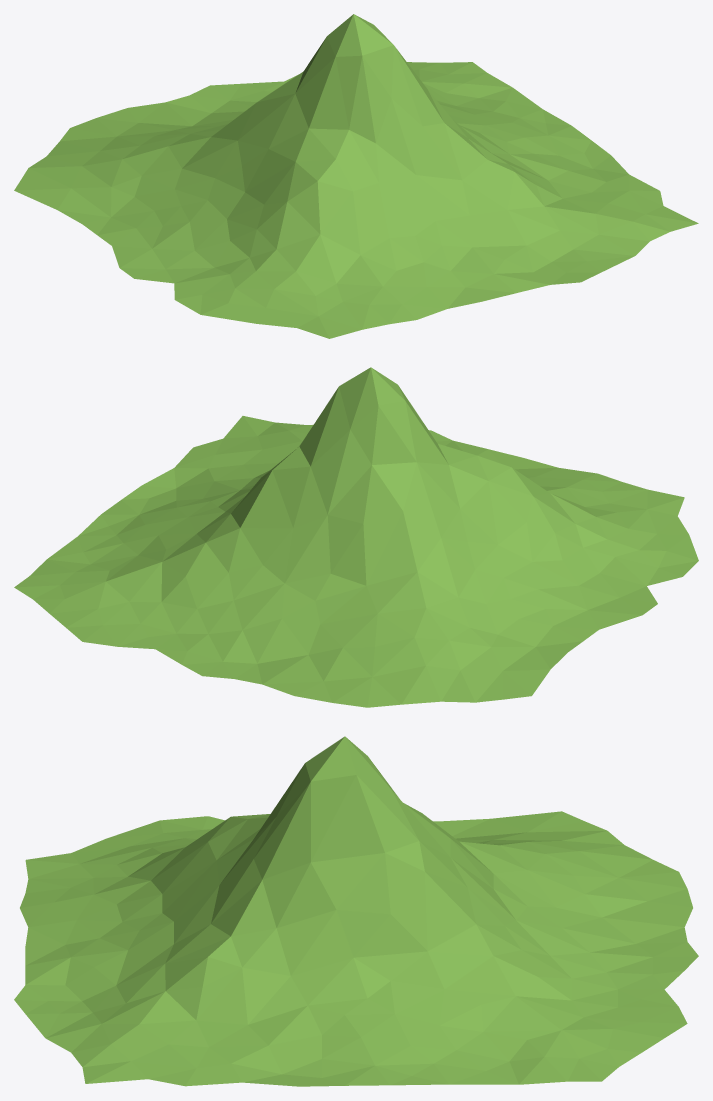
Rendered from MT_Mountain_M_a_19_LOD.fbx.
The picture shows the model from 3 angles, top to bottom: view 1: azimuth 30°, elevation 25°; view 2: azimuth 150°, elevation 25°; view 3: azimuth 270°, elevation 25°; orthographic projection. The views are drawn at different scales.
Visible parts, largest first — view 1: MT_Mountain_M_a_19_LOD0; view 2: MT_Mountain_M_a_19_LOD0; view 3: MT_Mountain_M_a_19_LOD0.
Part boxes in pixels (left/top/right/bottom): MT_Mountain_M_a_19_LOD0: left=14, top=14, right=698, bottom=338; MT_Mountain_M_a_19_LOD0: left=14, top=367, right=698, bottom=707; MT_Mountain_M_a_19_LOD0: left=14, top=736, right=698, bottom=1086.
Size of what is drawn, in the model's own units: 4453 by 1642 by 4688.
